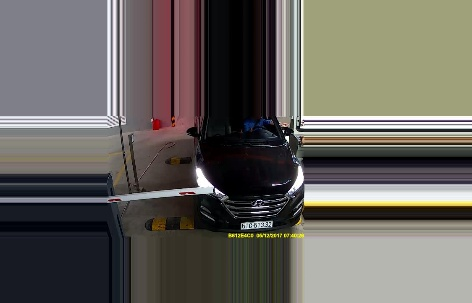plate: (241, 218, 274, 230)
